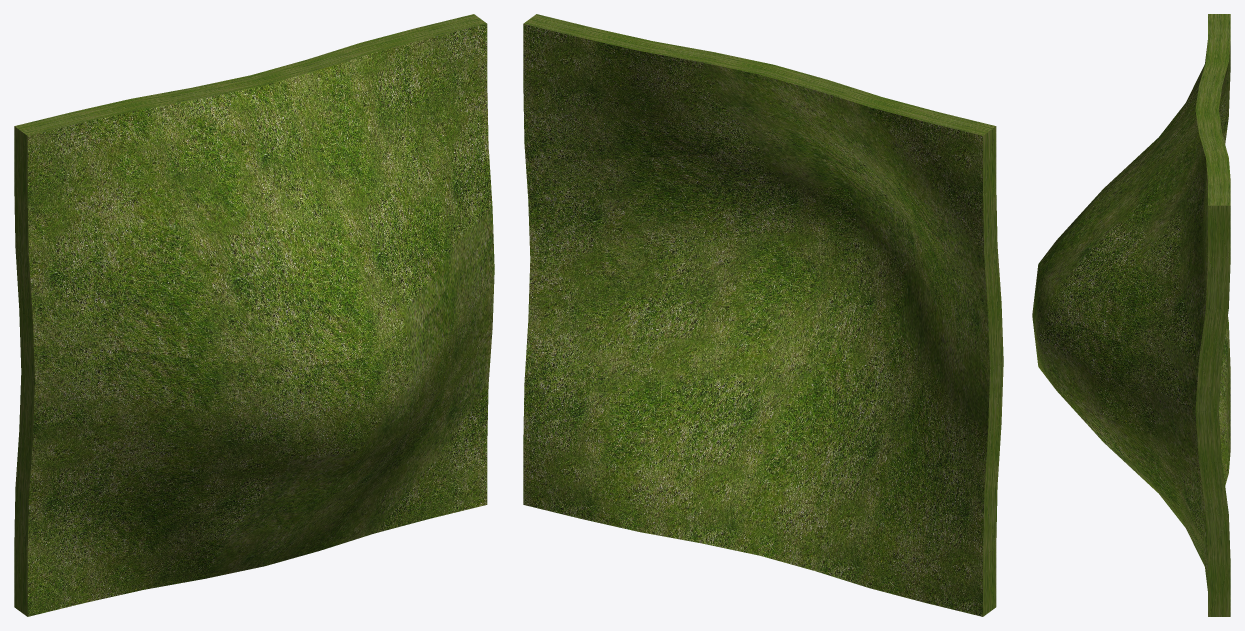
File: hill.fbx
3 renders of one model, left to right at view 1: azimuth 30°, elevation 25°; view 2: azimuth 150°, elevation 25°; view 3: azimuth 270°, elevation 25°, orthographic. The views are drawn at different scales.
Parts seen in each view (by area): view 1: pCube1; view 2: pCube1; view 3: pCube1.
Part boxes in pixels (x1,y1,x2,y2): pCube1: (14, 14, 494, 616); pCube1: (523, 14, 1003, 616); pCube1: (1032, 14, 1230, 616).
Size of the model in its own units: 1 by 1 by 0.4376.
Materials: 1 (1 with a texture image).
